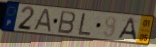2: (17, 6, 36, 32)
9: (102, 15, 119, 39)
A: (116, 16, 137, 42), (31, 8, 52, 34)
B: (57, 9, 77, 35)
L: (77, 12, 93, 36)
